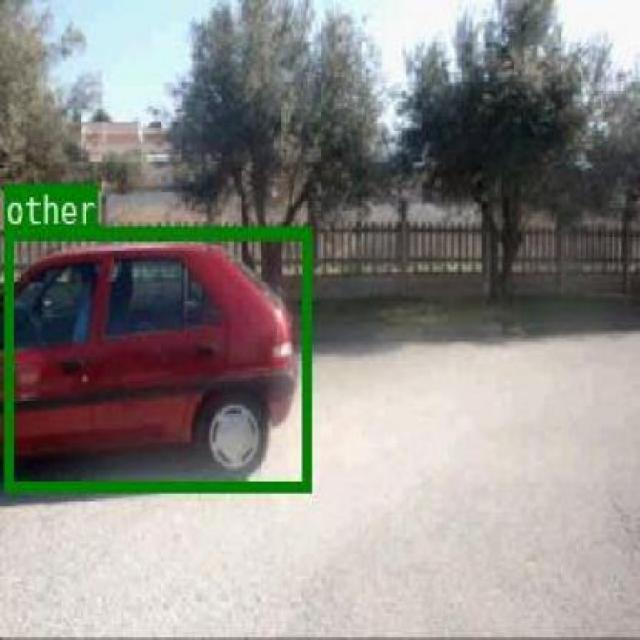Smoke: (3, 225, 309, 490)
